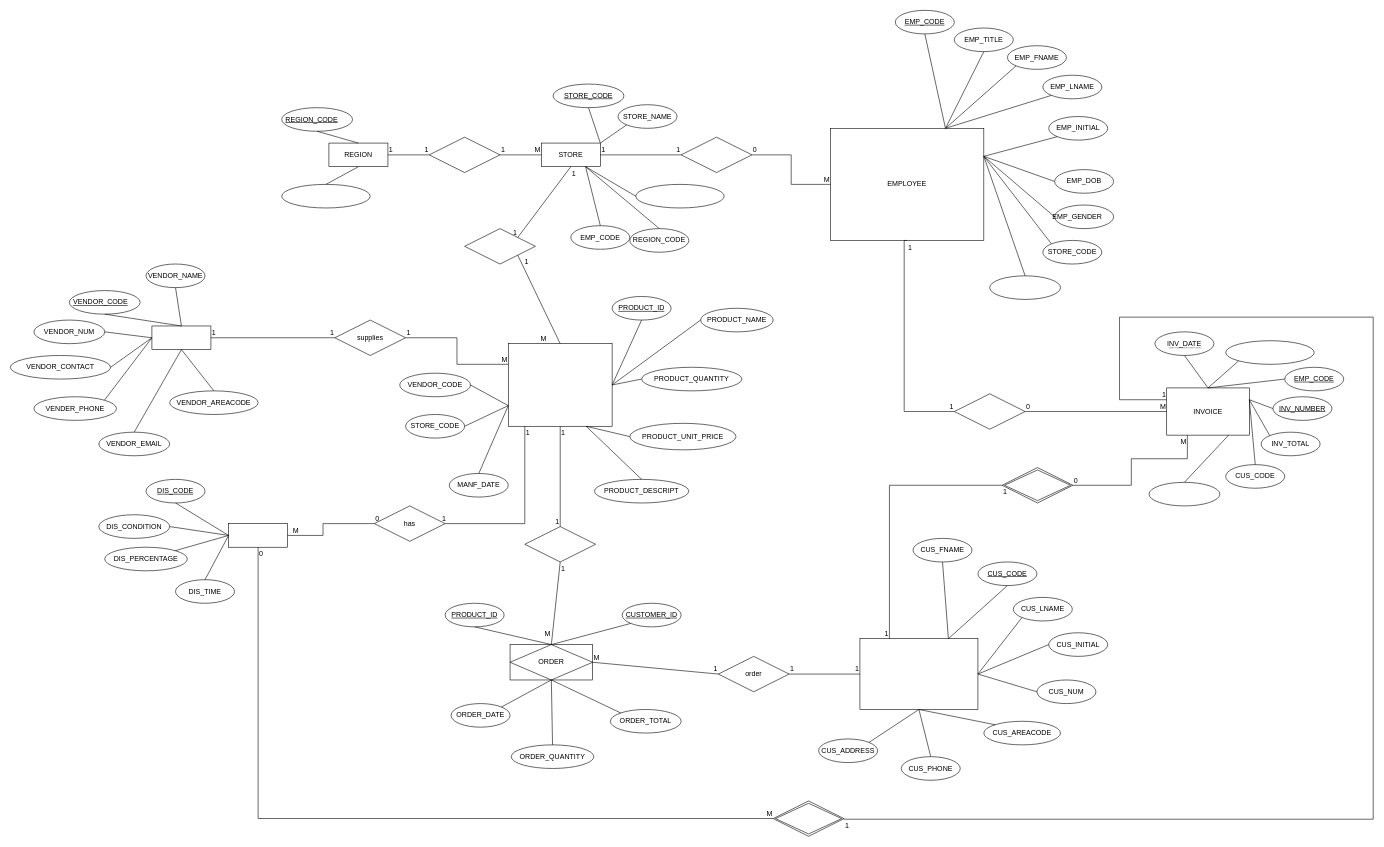
Image size: 1384x847. Some labels were removed from this diagram. The centre of each missing label's shape, as x and y in pixels:
"applies" goes at [808,818].
"contains" goes at [499,246].
"CUSTOMER" goes at [918,673].
"DISCOUNT" goes at [258,535].
"EMP_MANAGER" goes at [1025,287].
"employs" goes at [716,155].
"generates" goes at [1037,485].
"INV_PAYMENT_TYPE" goes at [1269,352].
"INV_VOUCHER" goes at [1184,494].
"makes" goes at [989,411].
"owns" goes at [464,155].
"PRODUCT" goes at [560,384].
"REGION_DESCRIPT" goes at [325,196].
"STORE_YTD_SALES" goes at [679,196].
"takes" goes at [560,544].
"VENDOR" goes at [181,337].
